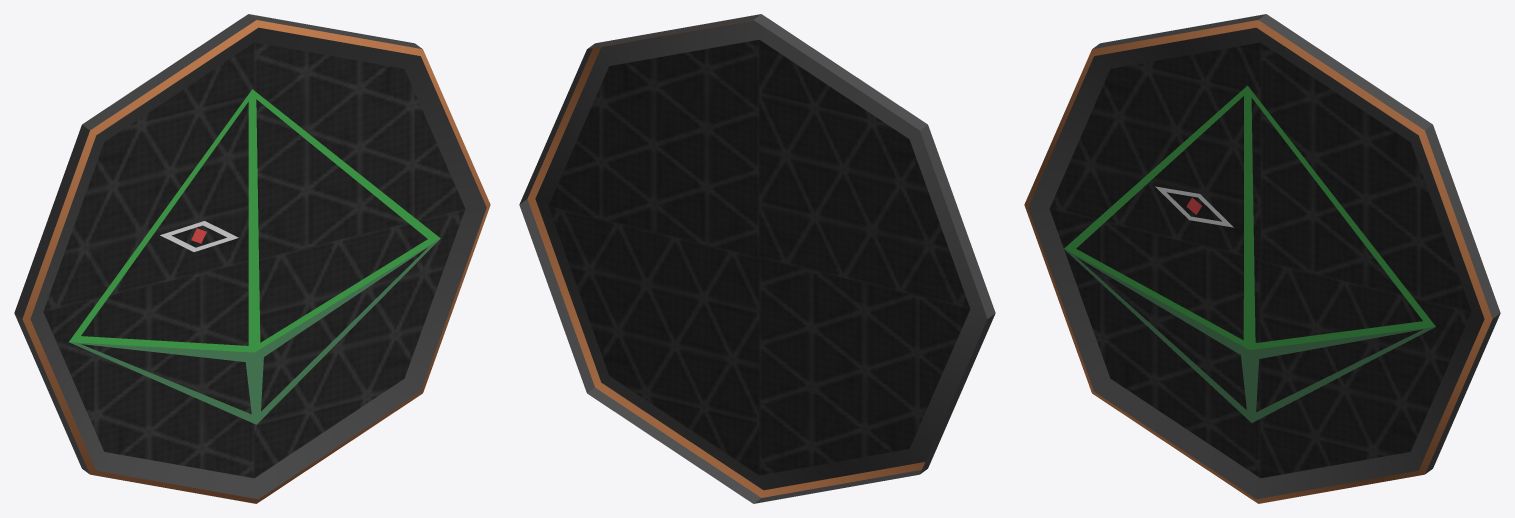
The model's file is Ad06_Art.glb.
The picture shows the model from 3 angles, left to right: view 1: azimuth 30°, elevation 25°; view 2: azimuth 150°, elevation 25°; view 3: azimuth 330°, elevation 25°; orthographic projection.
Parts seen in each view (by area): view 1: Ad06_Art; view 2: Ad06_Art; view 3: Ad06_Art.
Part boxes in pixels (x1,y1,x2,y2): Ad06_Art: (14, 14, 490, 503); Ad06_Art: (519, 14, 995, 503); Ad06_Art: (1024, 14, 1500, 503).
Bounding box in the file's own units: 7.03 × 6.95 × 0.2977.
1 material, 1 textured.
